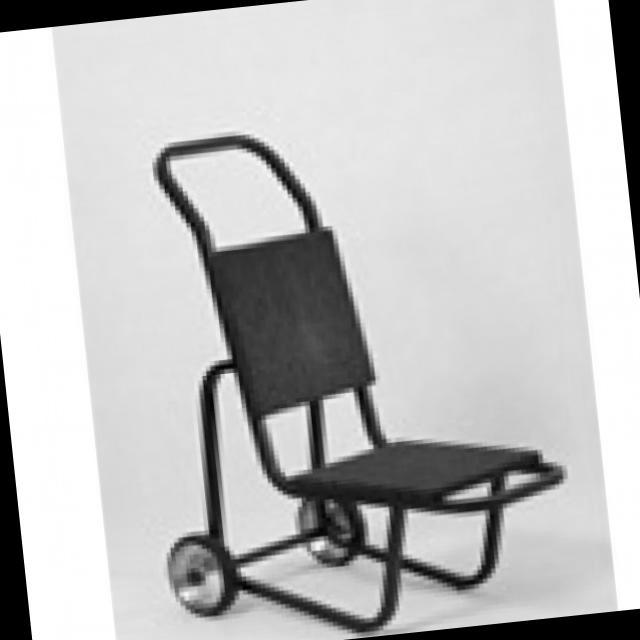chair: (118, 97, 587, 640)
